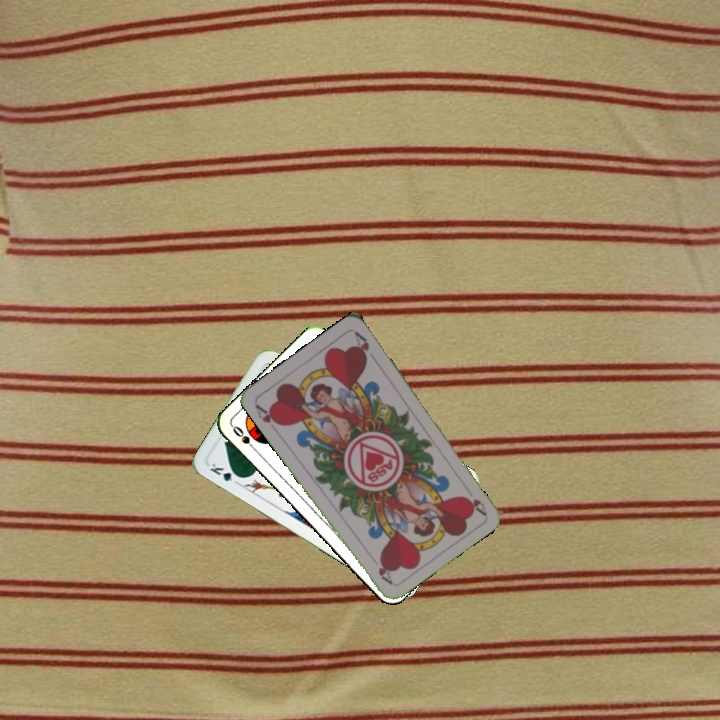GK: (205, 458, 244, 487)
HA: (251, 400, 284, 435), (462, 492, 489, 518)
SO: (228, 421, 260, 455)
